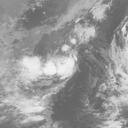cyclone: (31, 52, 76, 82)
